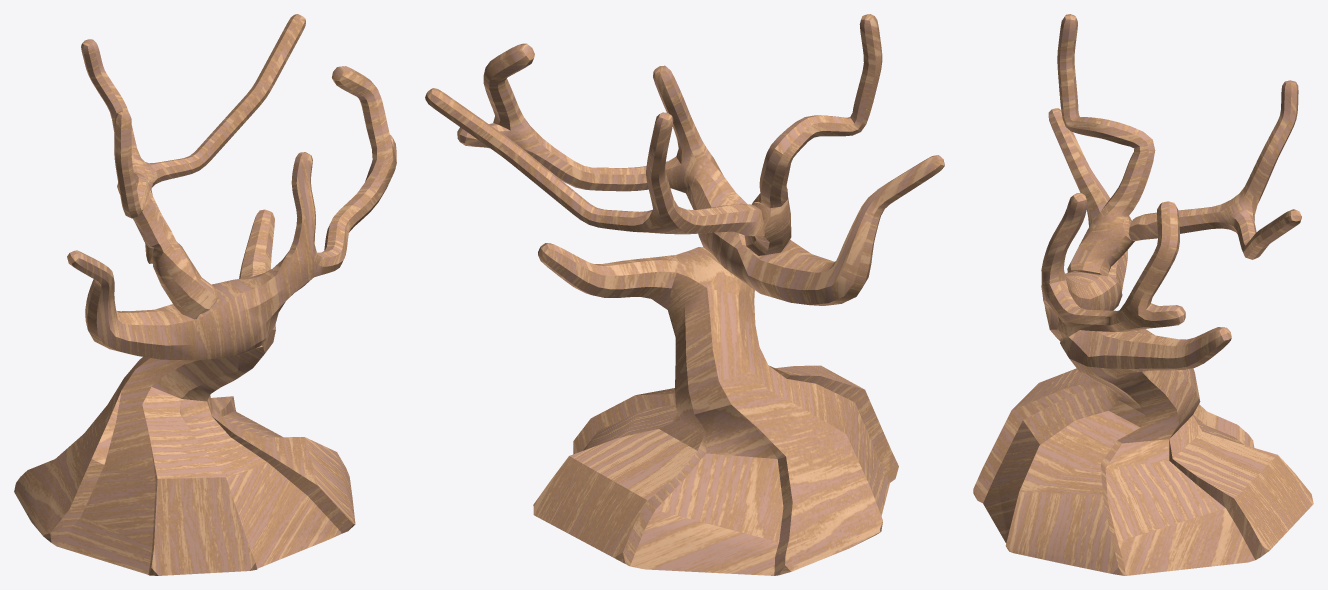
File: light-hallacirya-tree.glb
3 views of the same model, side by side, from view 1: azimuth 30°, elevation 25°; view 2: azimuth 150°, elevation 25°; view 3: azimuth 270°, elevation 25° (orthographic). The views are drawn at different scales.
Parts seen in each view (by area): view 1: Vert.001; view 2: Vert.001; view 3: Vert.001.
Boxes of the visible parts, x1,y1,x2,y2 form: Vert.001: [14, 14, 396, 575]; Vert.001: [425, 14, 944, 575]; Vert.001: [973, 14, 1313, 575].
Size of the model in its own units: 2.63 by 2.92 by 2.02.
1 material, 1 textured.
